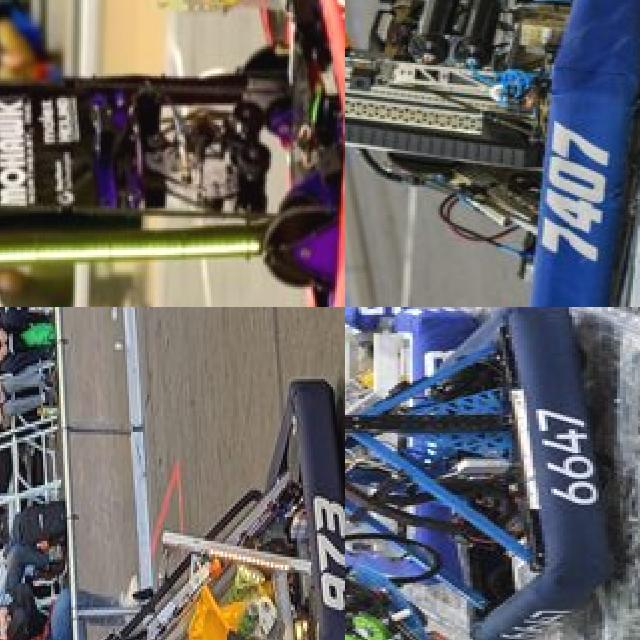FRC-Robots: (0, 0, 345, 307), (345, 0, 640, 307), (345, 307, 616, 640), (72, 316, 345, 640)
